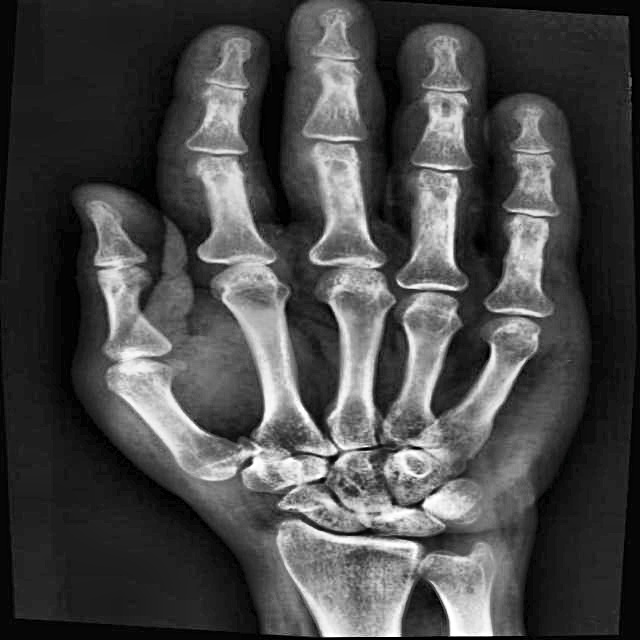Healthy: (85, 55, 606, 551)
